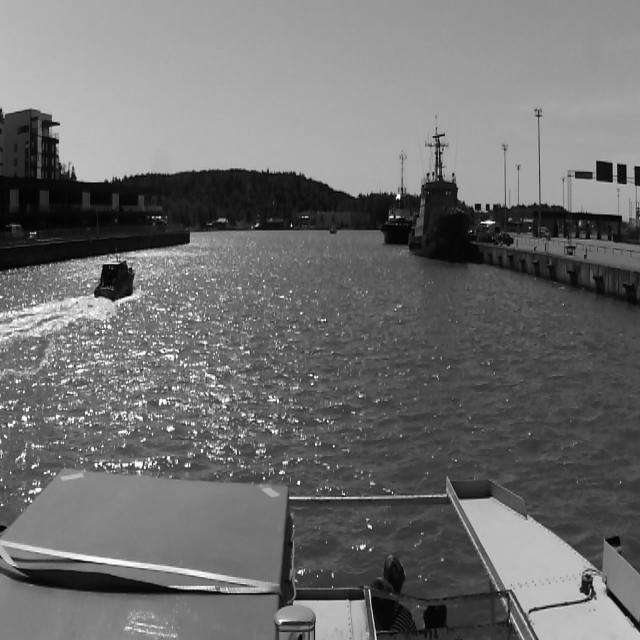ship: (410, 122, 472, 261), (385, 145, 409, 244), (96, 252, 136, 298), (331, 226, 336, 234)
